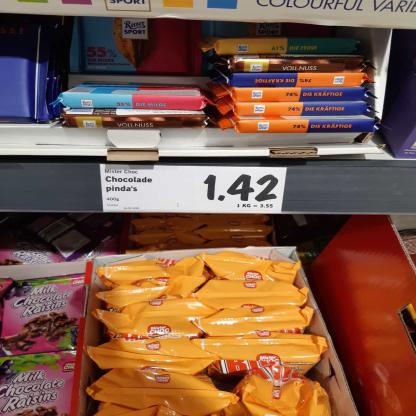prtg: (101, 165, 288, 214)
